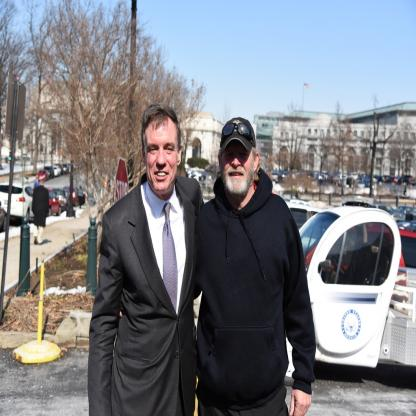Car: (295, 204, 406, 394), (1, 162, 86, 225), (276, 171, 416, 190)
